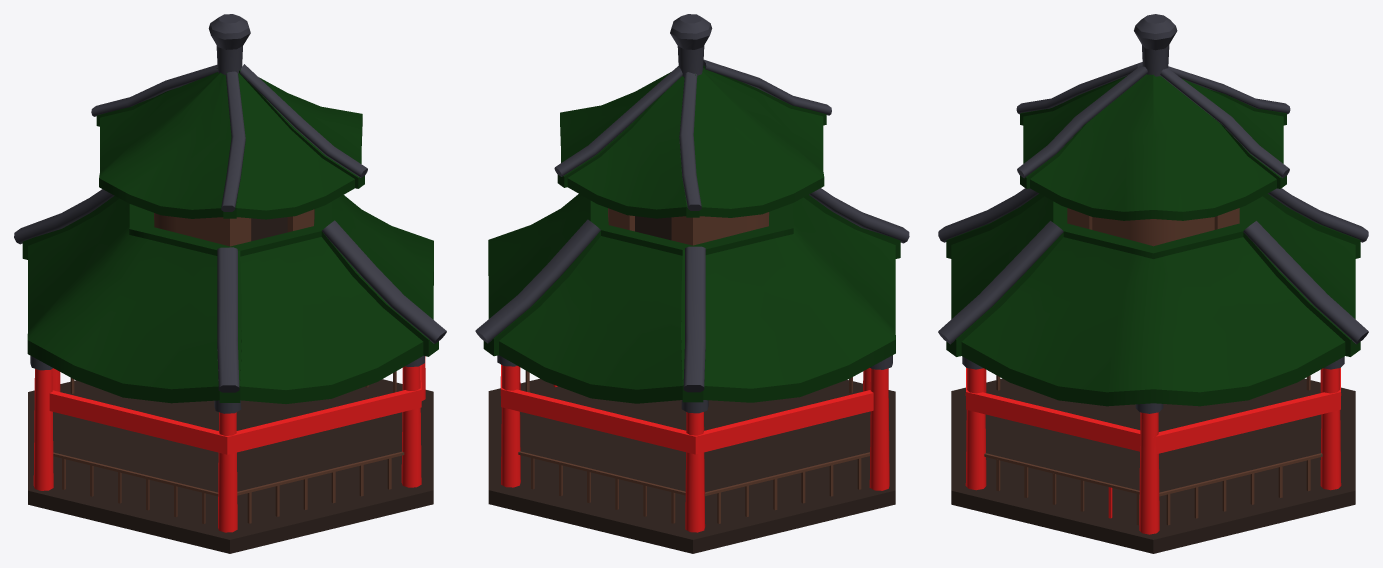
Rendered from SM_Pagoda.obj.
The picture shows the model from 3 angles, left to right: view 1: azimuth 30°, elevation 25°; view 2: azimuth 150°, elevation 25°; view 3: azimuth 270°, elevation 25°; orthographic projection.
Parts seen in each view (by area): view 1: SM_Pagoda:SM_Pagoda; view 2: SM_Pagoda:SM_Pagoda; view 3: SM_Pagoda:SM_Pagoda.
Part boxes in pixels (x1,y1,x2,y2): SM_Pagoda:SM_Pagoda: (14,14,446,553); SM_Pagoda:SM_Pagoda: (475,14,909,553); SM_Pagoda:SM_Pagoda: (938,14,1368,553).
Bounding box in the file's own units: 15.96 × 16.34 × 14.63.
